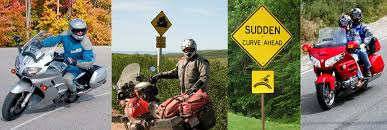helmet: (177, 37, 200, 61), (65, 16, 87, 40), (337, 12, 354, 33), (349, 1, 362, 26)
